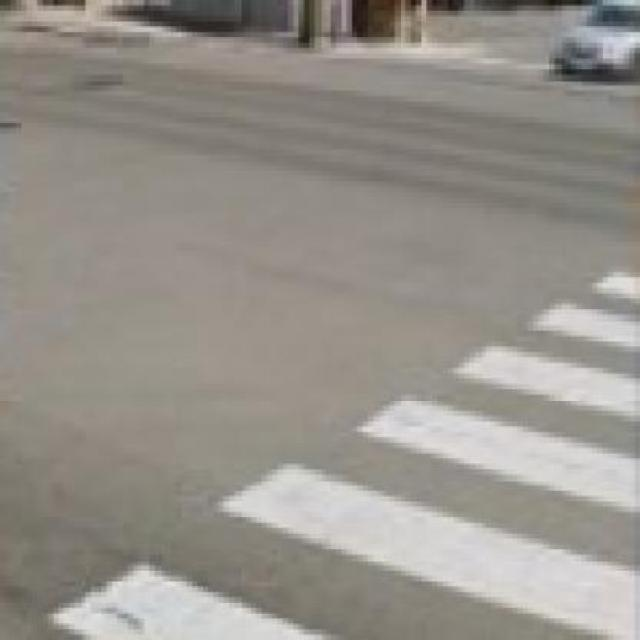crosswalk: (49, 265, 640, 639)
